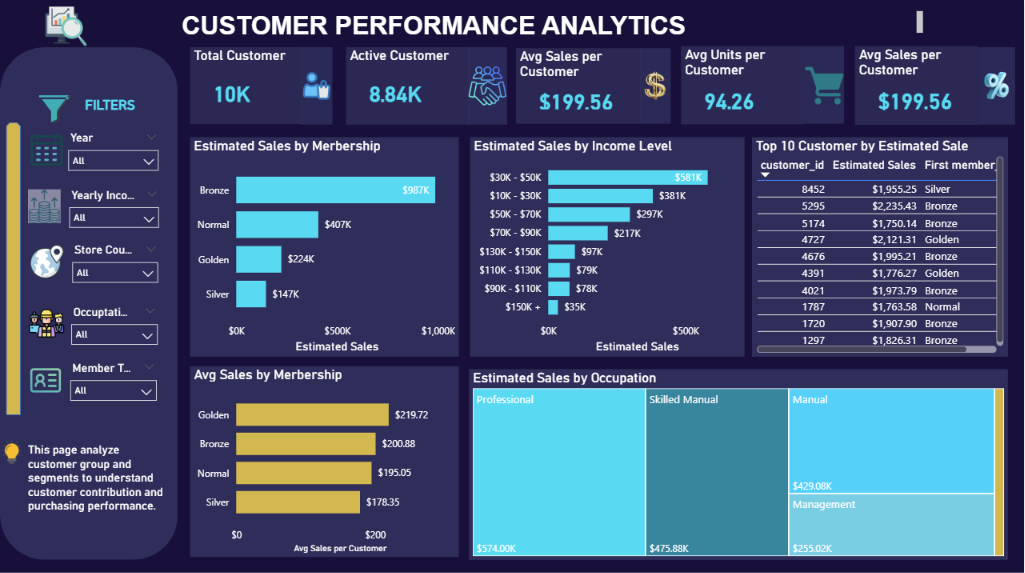

The page's visual inventory and layout, read from the dashboard file:
{"tool":"powerbi","page":{"name":"Customer Analytics","canvas":[1280,720],"ordinal":1},"visuals":[{"type":"textbox","title":"Re","box":[222.4,10,936.5,48.5],"z":0},{"type":"cardVisual","title":"Avg Units per Customer","fields":{"Data":["Measure_Table.Avg Units per Customer"]},"box":[852.1,58.4,155.3,97.6],"z":0,"group":"g1"},{"type":"cardVisual","title":"Avg Sales per Customer","fields":{"Data":["Measure_Table.Avg Sales per Customer"]},"box":[1069.5,58.4,153.9,98.4],"z":0,"group":"g10"},{"type":"cardVisual","title":"Total Customer","fields":{"Data":["Measure_Table.Total Customers"]},"box":[238,59.8,140.1,96.3],"z":0,"group":"g13"},{"type":"cardVisual","title":"Active Customer","fields":{"Data":["Measure_Table.Active Customers"]},"box":[432.8,59.8,154.4,97],"z":0,"group":"g7"},{"type":"cardVisual","title":"Avg Sales per Customer","fields":{"Data":["Measure_Table.Avg Sales per Customer"]},"box":[646,61.7,155.9,94.3],"z":0,"group":"g5"},{"type":"shape","box":[7.4,153.7,18.5,366.3],"z":0,"group":"g8"},{"type":"slicer","fields":{"Values":["dim_date.year"]},"box":[75.1,160.1,133.5,55.6],"z":0,"group":"g2"},{"type":"slicer","fields":{"Values":["dim_customer.yearly_income"]},"box":[76.3,231.7,132.6,55.6],"z":0,"group":"g9"},{"type":"slicer","fields":{"Values":["dim_store.store_country"]},"box":[79.8,300.1,127.8,55.6],"z":0,"group":"g6"},{"type":"slicer","fields":{"Values":["dim_customer.occupation"]},"box":[78.5,377.6,128.1,55.1],"z":0,"group":"g4"},{"type":"slicer","fields":{"Values":["dim_customer.member_card"]},"box":[77,447.8,128.1,55.1],"z":0,"group":"g11"},{"type":"textbox","box":[29.9,548.8,179.6,119.7],"z":0,"group":"g12"},{"type":"image","box":[22.8,7.1,119.7,52.7],"z":1000},{"type":"group","id":"g1","title":"Group 2","box":[852.1,58.4,203.3,98.4],"z":1000,"group":"g3"},{"type":"image","box":[1006.5,58.4,49.1,96.9],"z":1000,"group":"g1"},{"type":"image","box":[376.9,59.8,39,96.9],"z":1000,"group":"g13"},{"type":"image","box":[585.4,59.8,49.1,97],"z":1000,"group":"g7"},{"type":"image","box":[1223.4,60,46.6,96.8],"z":1000,"group":"g10"},{"type":"image","box":[800.8,61.3,38.4,94.3],"z":1000,"group":"g5"},{"type":"group","id":"g2","title":"Group 1","box":[35.2,160.1,174.4,54.5],"z":1000,"group":"g8"},{"type":"image","box":[35.2,160.2,46.6,55.3],"z":1000,"group":"g2"},{"type":"image","box":[35.2,231.7,41.1,55.6],"z":1000,"group":"g9"},{"type":"image","box":[35.8,300.4,45.1,55.6],"z":1000,"group":"g6"},{"type":"image","box":[36,377.5,44.3,55.6],"z":1000,"group":"g4"},{"type":"image","box":[34.5,447.7,44.3,55.6],"z":1000,"group":"g11"},{"type":"image","box":[0,548.8,29.9,34.2],"z":1000,"group":"g12"},{"type":"group","id":"g3","title":"Group 1","box":[238,58.4,1032,98.4],"z":2000},{"type":"group","id":"g4","title":"Group 1","box":[36,377.5,170.1,55.9],"z":2000,"group":"g8"},{"type":"shape","box":[0,60.4,222.3,640.8],"z":3000},{"type":"group","id":"g5","title":"Group 3","box":[646,61.3,193.4,95.5],"z":3000,"group":"g3"},{"type":"group","id":"g6","title":"Group 1","box":[35.8,300.1,173,55.9],"z":3000,"group":"g8"},{"type":"group","id":"g7","title":"Group 4","box":[432.8,59.8,201.9,96.9],"z":4000,"group":"g3"},{"type":"group","id":"g8","title":"Group 7","box":[7.4,111.2,202.2,408.8],"z":4000},{"type":"group","id":"g9","title":"Group 1","box":[35.2,231.7,174.4,55.9],"z":4000,"group":"g8"},{"type":"group","id":"g10","title":"Group 5","box":[1069.5,58.4,200.5,98.4],"z":5000,"group":"g3"},{"type":"group","id":"g11","title":"Group 1","box":[34.5,447.7,170.1,54.5],"z":5000,"group":"g8"},{"type":"group","id":"g12","title":"Group 8","box":[0,548.8,209.5,119.7],"z":5000},{"type":"group","id":"g13","title":"Group 6","box":[238,59.8,177.9,96.9],"z":6000,"group":"g3"},{"type":"textbox","box":[101.7,118,95.6,34.2],"z":6000,"group":"g8"},{"type":"barChart","title":"Estimated Sales by Merbership","fields":{"Y":["Measure_Table.Estimated Sales"],"Category":["dim_customer.member_card"]},"box":[237.4,172.9,336.2,274.4],"z":6000},{"type":"image","box":[48.9,111.2,39.9,53.4],"z":7000,"group":"g8"},{"type":"barChart","title":"Estimated Sales by Income Level","fields":{"Y":["Measure_Table.Estimated Sales"],"Category":["dim_customer.yearly_income"]},"box":[587.3,172.9,343.1,274.4],"z":7000},{"type":"tableEx","title":"Top 10 Customer by Estimated Sale","fields":{"Values":["dim_customer.customer_id","Measure_Table.Estimated Sales","Min(dim_customer.member_card)"]},"box":[940,172.9,319.7,274.4],"z":8000},{"type":"barChart","title":"Avg Sales by Merbership","fields":{"Category":["dim_customer.member_card"],"Y":["Measure_Table.Avg Sales per Customer"]},"box":[237.4,458.3,336.2,238.8],"z":9000},{"type":"treemap","title":"Estimated Sales by Occupation","fields":{"Group":["dim_customer.occupation"],"Values":["Measure_Table.Estimated Sales"]},"box":[585.9,462.4,673.8,238.8],"z":10000}]}

Visuals, with their boxes in screenshot pixels (x1, y1, x2, y2), scaled from the page's 1280x720 canvas onto the 1025x573 screenshot:
"Re" textbox: BBox(178, 8, 928, 47)
"Avg Units per Customer" cardVisual: BBox(682, 46, 807, 124)
"Avg Sales per Customer" cardVisual: BBox(856, 46, 980, 125)
"Total Customer" cardVisual: BBox(191, 48, 303, 124)
"Active Customer" cardVisual: BBox(347, 48, 470, 125)
"Avg Sales per Customer" cardVisual: BBox(517, 49, 642, 124)
shape: BBox(6, 122, 21, 414)
slicer - dim_date.year: BBox(60, 127, 167, 172)
slicer - dim_customer.yearly_income: BBox(61, 184, 167, 229)
slicer - dim_store.store_country: BBox(64, 239, 166, 283)
slicer - dim_customer.occupation: BBox(63, 301, 165, 344)
slicer - dim_customer.member_card: BBox(62, 356, 164, 400)
textbox: BBox(24, 437, 168, 532)
image: BBox(18, 6, 114, 48)
"Group 2" group: BBox(682, 46, 845, 125)
image: BBox(806, 46, 845, 124)
image: BBox(302, 48, 333, 125)
image: BBox(469, 48, 508, 125)
image: BBox(980, 48, 1017, 125)
image: BBox(641, 49, 672, 124)
"Group 1" group: BBox(28, 127, 168, 171)
image: BBox(28, 127, 66, 172)
image: BBox(28, 184, 61, 229)
image: BBox(29, 239, 65, 283)
image: BBox(29, 300, 64, 345)
image: BBox(28, 356, 63, 401)
image: BBox(0, 437, 24, 464)
"Group 1" group: BBox(191, 46, 1017, 125)
"Group 1" group: BBox(29, 300, 165, 345)
shape: BBox(0, 48, 178, 558)
"Group 3" group: BBox(517, 49, 672, 125)
"Group 1" group: BBox(29, 239, 167, 283)
"Group 4" group: BBox(347, 48, 508, 125)
"Group 7" group: BBox(6, 88, 168, 414)
"Group 1" group: BBox(28, 184, 168, 229)
"Group 5" group: BBox(856, 46, 1017, 125)
"Group 1" group: BBox(28, 356, 164, 400)
"Group 8" group: BBox(0, 437, 168, 532)
"Group 6" group: BBox(191, 48, 333, 125)
textbox: BBox(81, 94, 158, 121)
"Estimated Sales by Merbership" barChart: BBox(190, 138, 459, 356)
image: BBox(39, 88, 71, 131)
"Estimated Sales by Income Level" barChart: BBox(470, 138, 745, 356)
"Top 10 Customer by Estimated Sale" tableEx: BBox(753, 138, 1009, 356)
"Avg Sales by Merbership" barChart: BBox(190, 365, 459, 555)
"Estimated Sales by Occupation" treemap: BBox(469, 368, 1009, 558)
